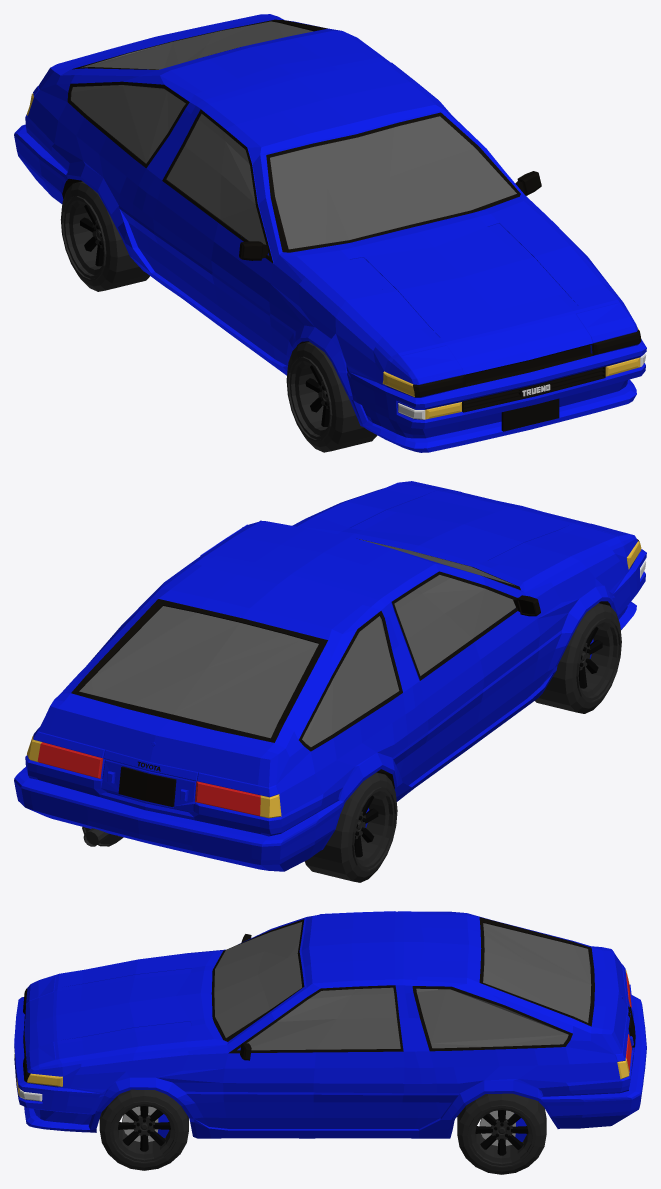
The model's file is hachiroku.glb.
The picture shows the model from 3 angles, top to bottom: view 1: azimuth 30°, elevation 25°; view 2: azimuth 150°, elevation 25°; view 3: azimuth 270°, elevation 25°; orthographic projection. The views are drawn at different scales.
Visible parts, largest first — view 1: Body, Glass, Trim, RightFrontTire, RightRearTire, GrilleFrontSectioned, PopUpHeadLightTips, Fogs, LicensePlateFront; view 2: Body, Glass, Trim, RightRearTire, RightFrontTire, BrakeLights, LicensePlateRear, Fogs; view 3: Body, Glass, Trim, LeftRearTire, LeftFrontTire, LeftFrontWheel, LeftRearWheel, Fogs.
Part boxes in pixels (x1,y1,x2,y2): Body: [14, 14, 646, 452]; Glass: [71, 21, 516, 249]; Trim: [62, 19, 593, 386]; RightFrontTire: [286, 341, 377, 452]; RightRearTire: [60, 181, 149, 291]; GrilleFrontSectioned: [462, 366, 605, 412]; PopUpHeadLightTips: [413, 330, 641, 397]; Fogs: [27, 93, 640, 419]; LicensePlateFront: [501, 398, 559, 431]; Body: [14, 481, 646, 871]; Glass: [79, 539, 515, 746]; Trim: [71, 527, 610, 788]; RightRearTire: [304, 772, 397, 882]; RightFrontTire: [535, 603, 621, 713]; BrakeLights: [37, 742, 260, 816]; LicensePlateRear: [118, 766, 176, 806]; Fogs: [27, 541, 641, 818]; Body: [14, 911, 646, 1138]; Glass: [214, 922, 591, 1050]; Trim: [23, 917, 594, 1116]; LeftRearTire: [457, 1093, 546, 1174]; LeftFrontTire: [99, 1089, 188, 1170]; LeftFrontWheel: [118, 1106, 170, 1151]; LeftRearWheel: [475, 1110, 528, 1155]; Fogs: [16, 970, 629, 1095].
Bounding box in the file's own units: 8.1 × 5.8 × 18.61.
